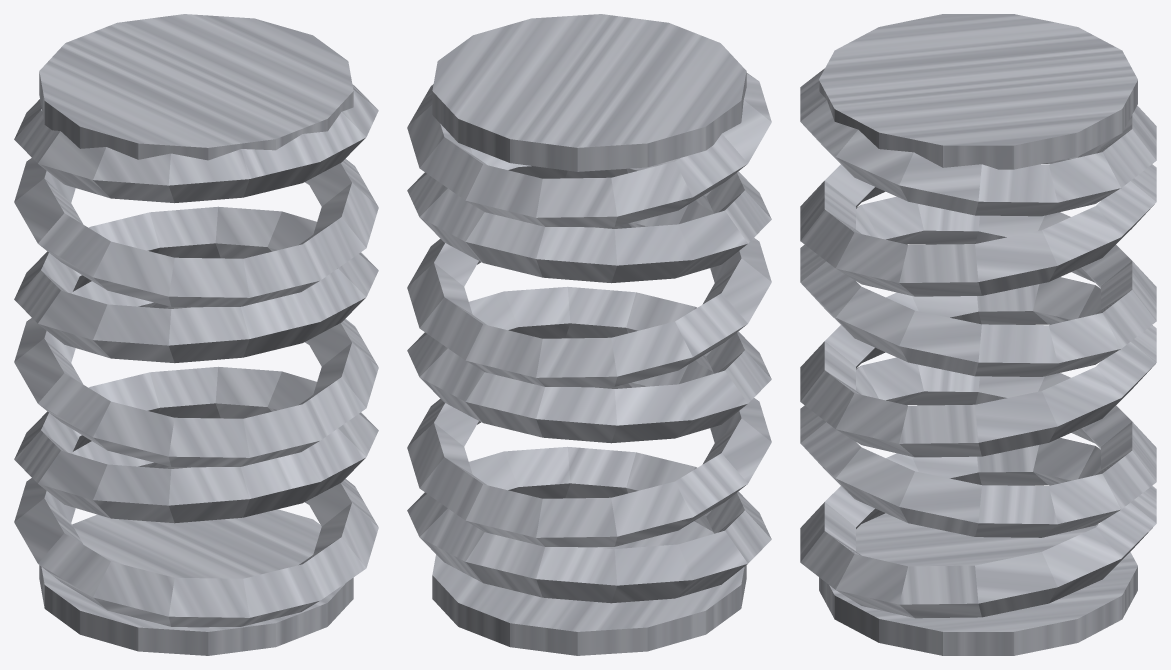
The model's file is mdl_pieza_resorte.fbx.
3 renders of one model, left to right at view 1: azimuth 30°, elevation 25°; view 2: azimuth 150°, elevation 25°; view 3: azimuth 270°, elevation 25°, orthographic.
Visible parts, largest first — view 1: metal_acero; view 2: metal_acero; view 3: metal_acero.
Part boxes in pixels (x1,y1,x2,y2): metal_acero: (14, 14, 378, 655); metal_acero: (407, 14, 771, 655); metal_acero: (800, 14, 1156, 655).
Bounding box in the file's own units: 83 × 127 × 80.34.
